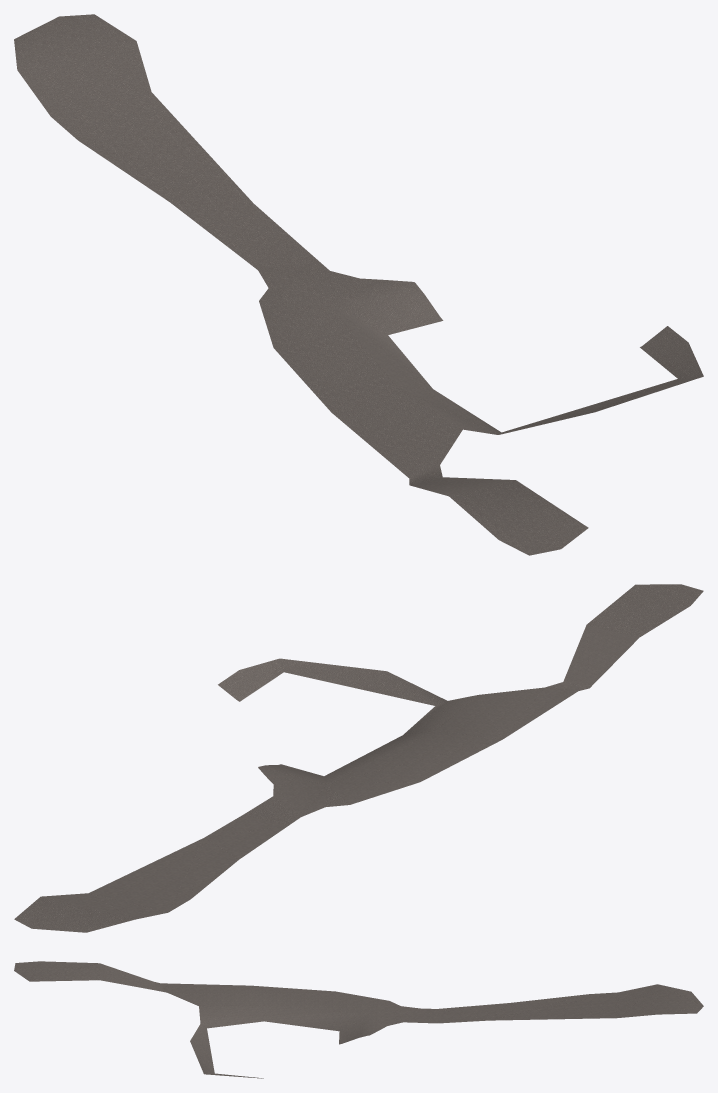
File: kd_stage_135ded_4_133_exterior_piece_0.glb
3 renders of one model, top to bottom at view 1: azimuth 30°, elevation 25°; view 2: azimuth 150°, elevation 25°; view 3: azimuth 270°, elevation 25°, orthographic. The views are drawn at different scales.
Visible parts, largest first — view 1: kd_stage_135ded_4_133_exterior_piece_0; view 2: kd_stage_135ded_4_133_exterior_piece_0; view 3: kd_stage_135ded_4_133_exterior_piece_0.
Boxes of the visible parts, bbox=[...] form: kd_stage_135ded_4_133_exterior_piece_0: bbox=[14, 14, 703, 555]; kd_stage_135ded_4_133_exterior_piece_0: bbox=[14, 584, 703, 932]; kd_stage_135ded_4_133_exterior_piece_0: bbox=[14, 961, 703, 1078].
Size of the model in its own units: 2.82 by 0.4272 by 8.42.
Materials: 1 (1 with a texture image).
